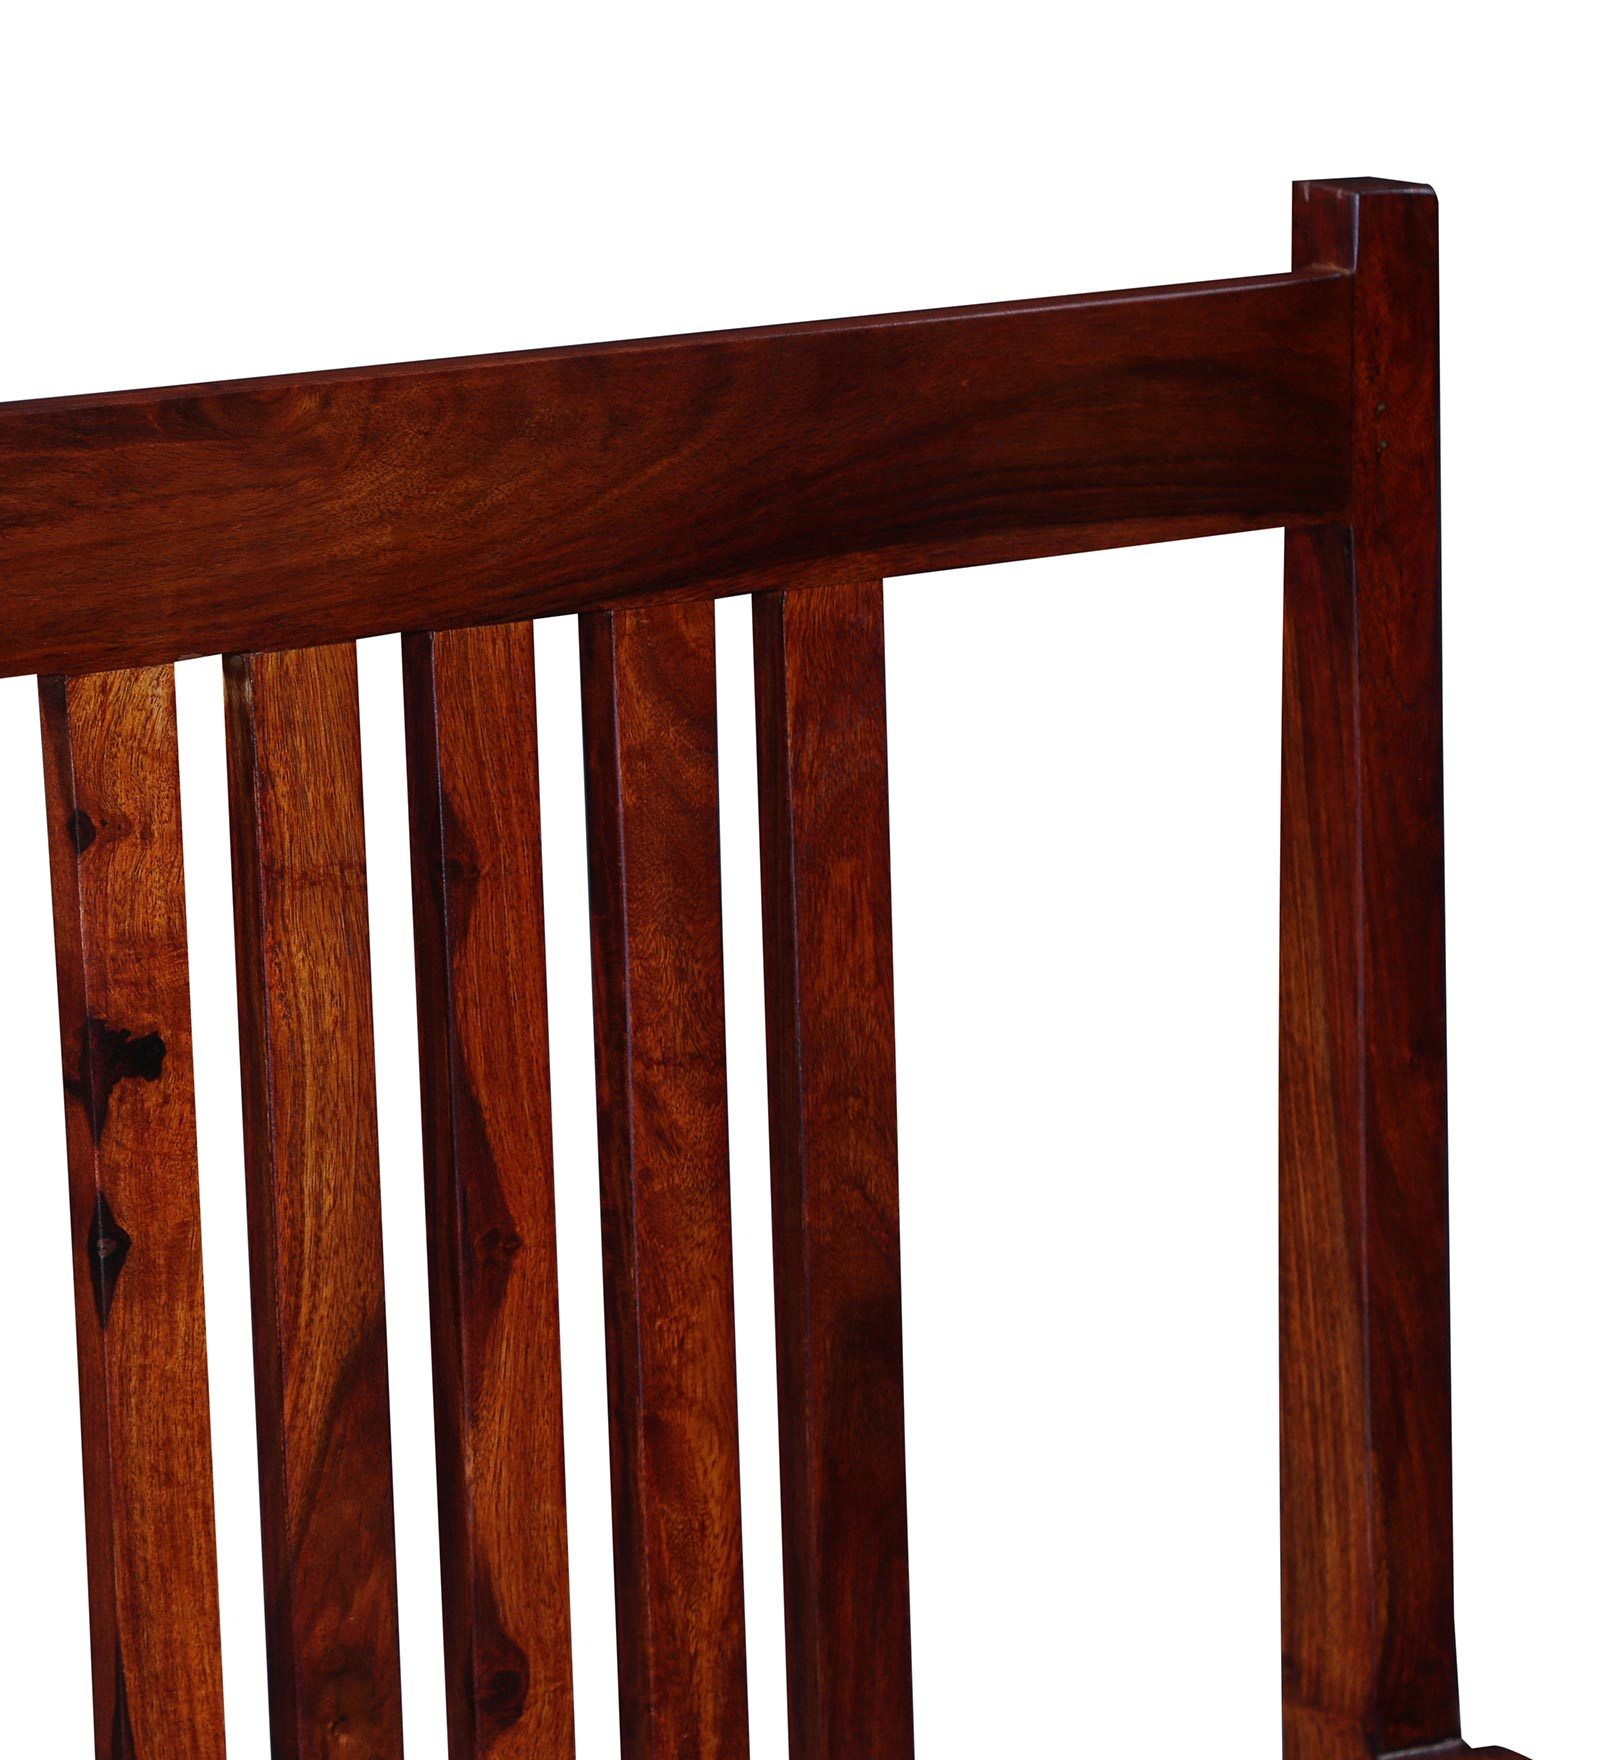Harleston Arm Chair in Honey Oak Finish by Amberville: (5, 127, 1528, 1760)
